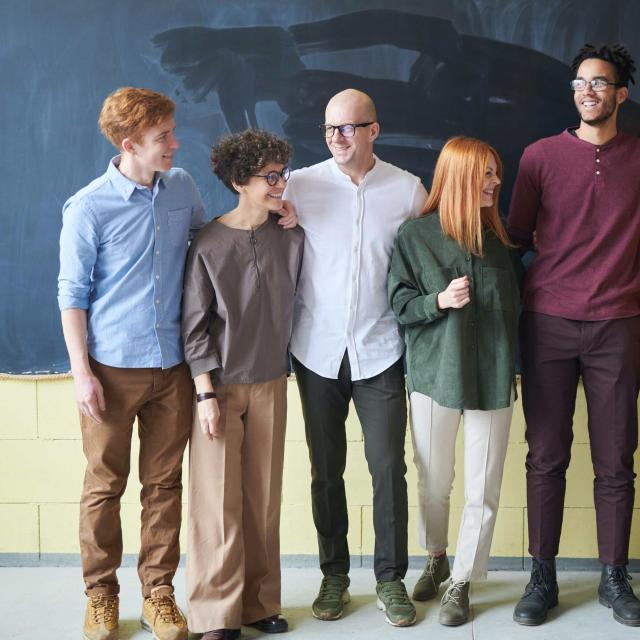adult: (271, 89, 429, 627), (55, 82, 194, 640), (510, 44, 640, 625), (390, 131, 520, 632), (187, 127, 301, 640)
